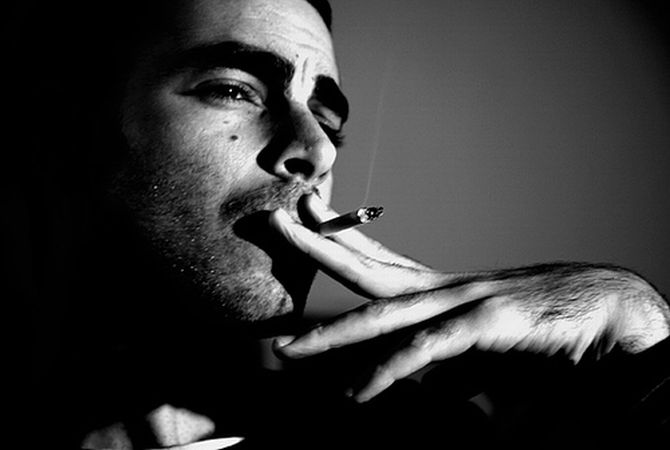cigarette: (297, 211, 401, 242)
